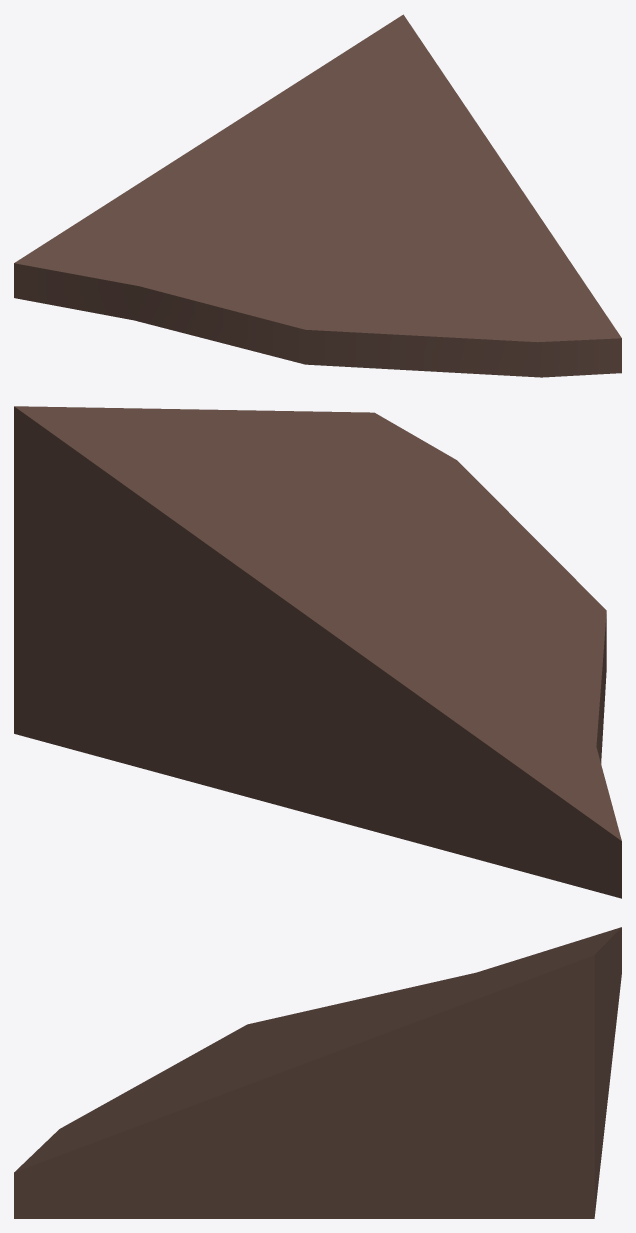
File: Cave_Floor_Edge_Corner.fbx
The picture shows the model from 3 angles, top to bottom: view 1: azimuth 30°, elevation 25°; view 2: azimuth 150°, elevation 25°; view 3: azimuth 270°, elevation 25°; orthographic projection. The views are drawn at different scales.
Visible parts, largest first — view 1: Cave_Floor_Edge_Corner; view 2: Cave_Floor_Edge_Corner; view 3: Cave_Floor_Edge_Corner.
Boxes of the visible parts, left/top/right/bottom form: Cave_Floor_Edge_Corner: left=14, top=14, right=621, bottom=377; Cave_Floor_Edge_Corner: left=14, top=406, right=621, bottom=898; Cave_Floor_Edge_Corner: left=14, top=927, right=621, bottom=1218.
Bounding box in the file's own units: 2 × 2.09 × 1.
